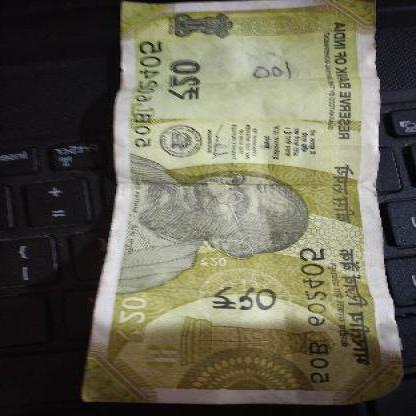New20Front: (81, 3, 391, 405)
